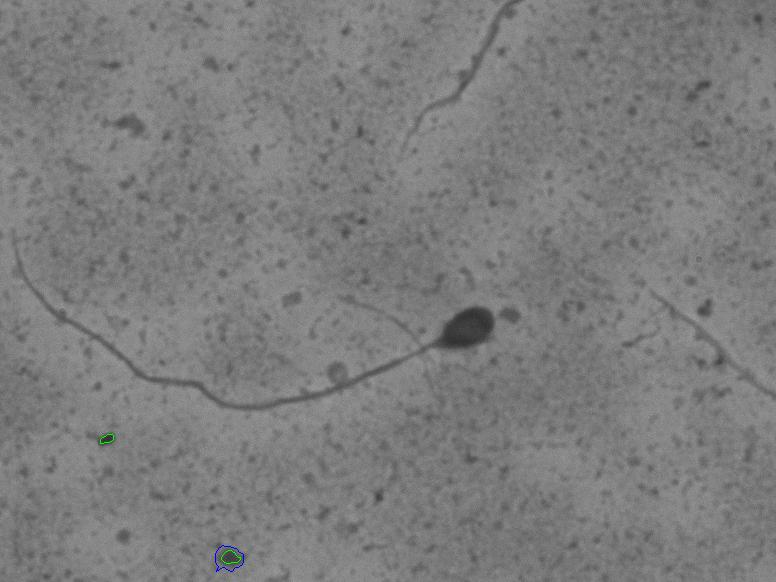Normal: (22, 188, 500, 433)
